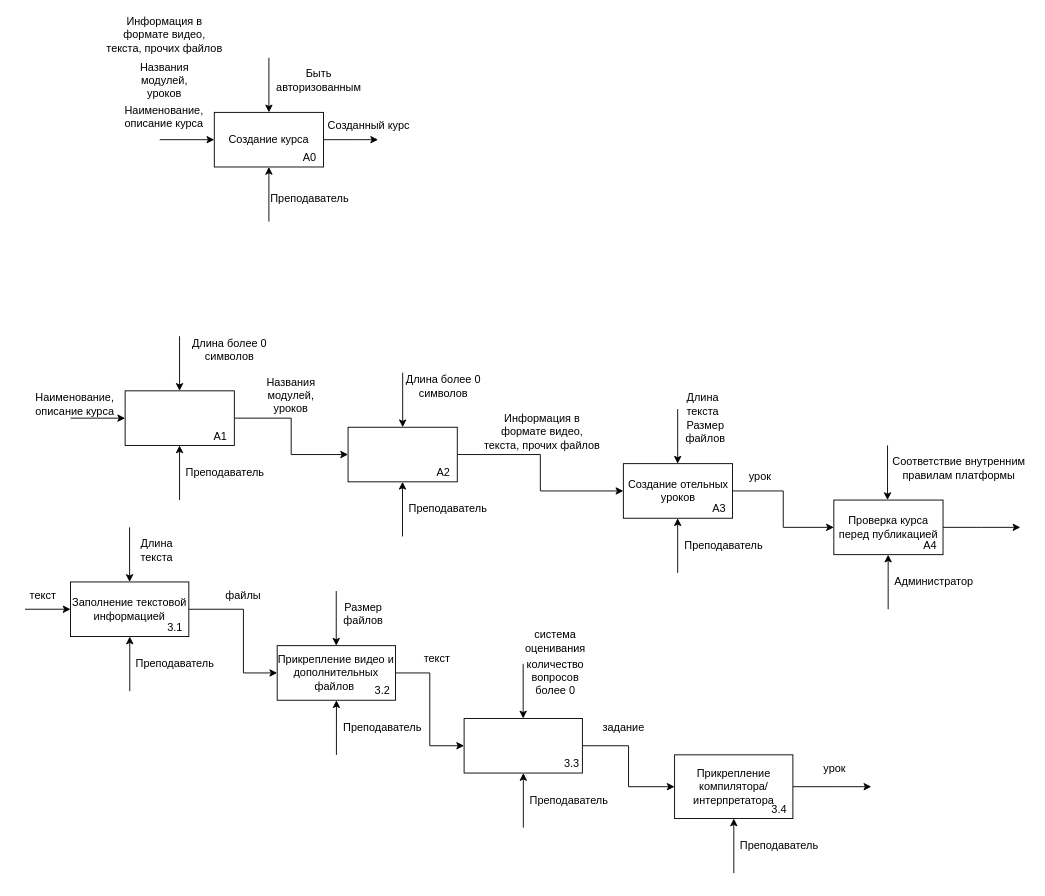
Some shapes in this 1045 by 896 pixel diagram are drawn without their labels. Here are the shapes that lost their labels. From the top down, the box of each, then its label:
(124, 390, 234, 445): Ввод базовой информации
(347, 426, 457, 482): Разбиение данных на модули и уроки
(463, 718, 582, 773): Создание опросов для контроля знаний
